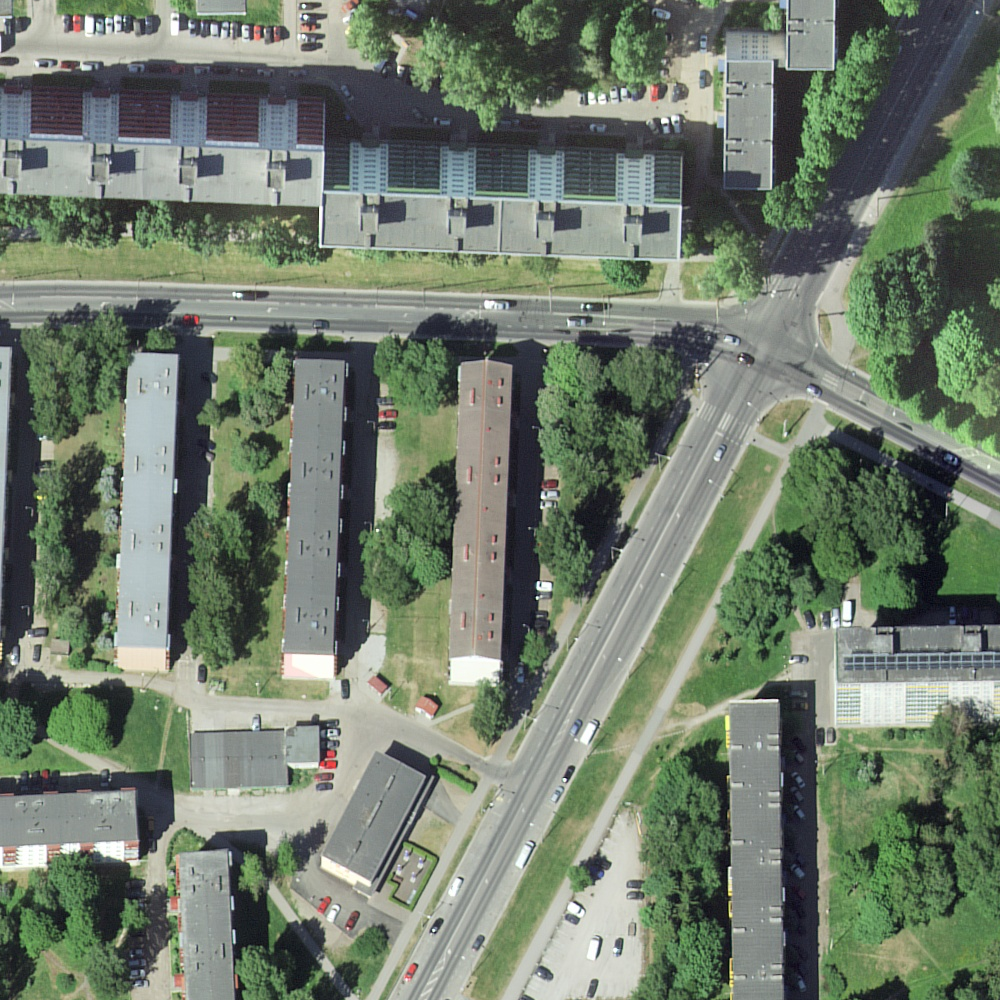building: (320, 191, 681, 261), (1, 138, 325, 206), (281, 359, 347, 655), (116, 354, 181, 647), (451, 360, 512, 660), (323, 751, 435, 896), (729, 700, 777, 1000), (834, 625, 1000, 682), (178, 851, 237, 1000), (191, 725, 321, 787), (1, 789, 139, 846), (724, 60, 774, 192), (786, 1, 836, 71), (2, 348, 13, 652), (414, 695, 439, 716), (368, 674, 389, 693)
